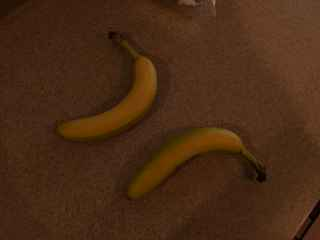banana: (54, 31, 160, 146), (124, 125, 269, 204)
